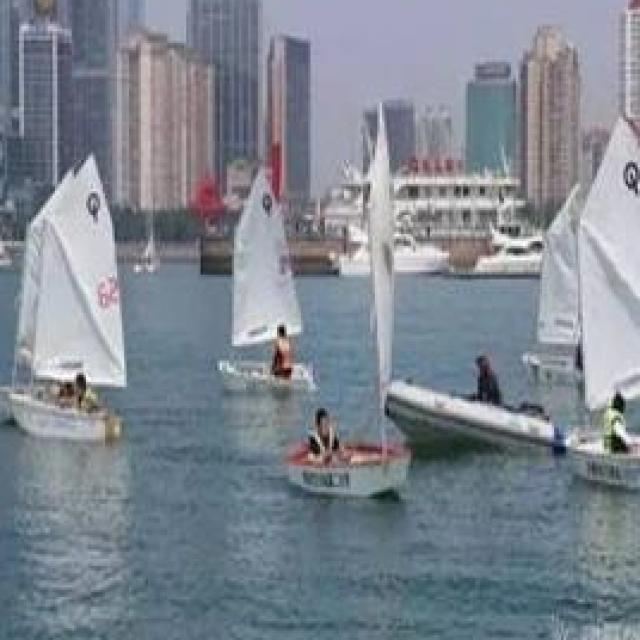houseboat: (383, 356, 559, 452)
sailboat: (288, 92, 420, 501), (0, 141, 134, 442), (568, 105, 640, 490), (212, 168, 321, 393), (519, 181, 582, 385)
